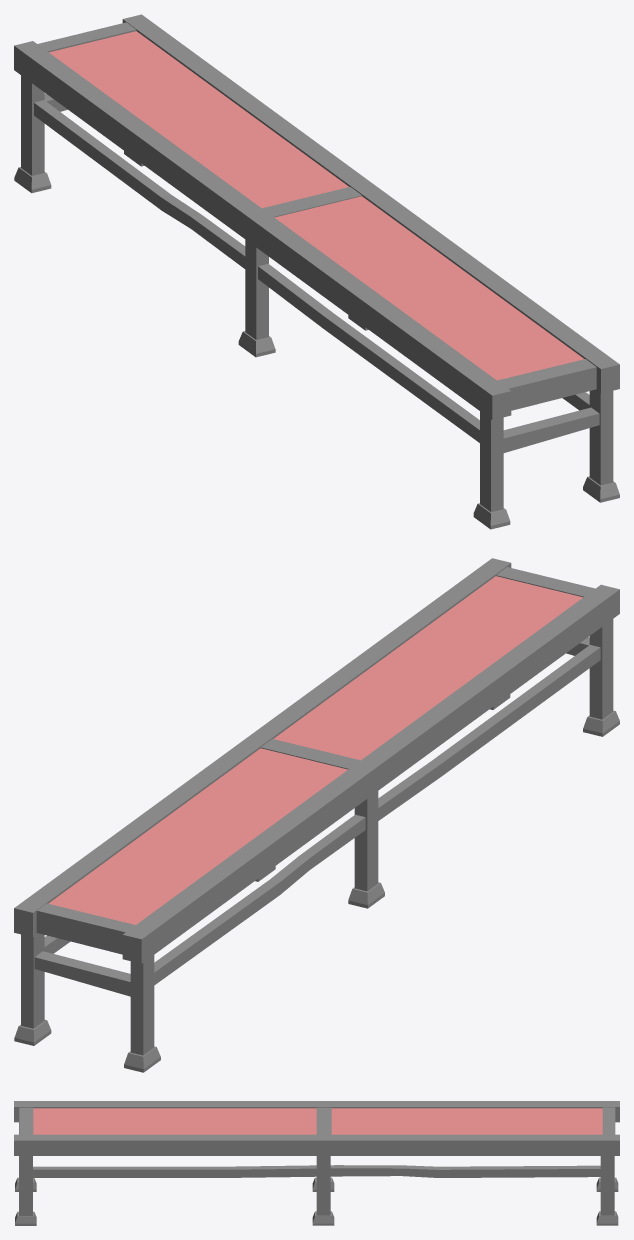
Rendered from S_Envi_Fyz_Building_65f.gltf.
The picture shows the model from 3 angles, top to bottom: view 1: azimuth 30°, elevation 25°; view 2: azimuth 150°, elevation 25°; view 3: azimuth 270°, elevation 25°; orthographic projection. The views are drawn at different scales.
Visible parts, largest first — view 1: S_Envi_Fyz_Building_65f; view 2: S_Envi_Fyz_Building_65f; view 3: S_Envi_Fyz_Building_65f.
Part boxes in pixels (bbox=[...]): S_Envi_Fyz_Building_65f: bbox=[14, 14, 619, 529]; S_Envi_Fyz_Building_65f: bbox=[14, 558, 619, 1072]; S_Envi_Fyz_Building_65f: bbox=[14, 1101, 619, 1225].
Size of the model in its own units: 1.48 by 1.47 by 9.51.
